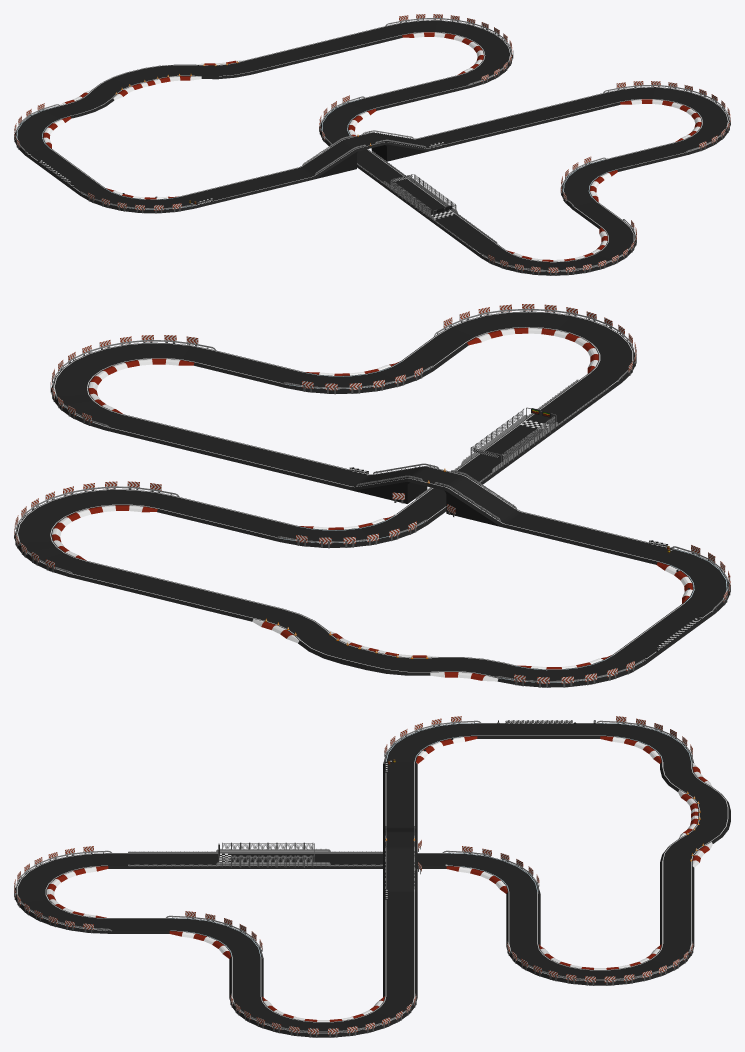
File: small-track.glb
The picture shows the model from 3 angles, top to bottom: view 1: azimuth 30°, elevation 25°; view 2: azimuth 150°, elevation 25°; view 3: azimuth 270°, elevation 25°; orthographic projection. The views are drawn at different scales.
Parts seen in each view (by area): view 1: 30Turn.004_91, 180Turn.001_101, 180Turn.003_94, straight.005_89, 180Turn.002_102, bridge.001_83, straight.007_95, straight.006_90, straight.001_75, straight.008_92, 90Turn.003_99, 90Turn.002_96 (+8 smaller); view 2: 30Turn.004_91, 180Turn.002_102, 180Turn.003_94, 180Turn.001_101, straight.005_89, bridge.001_83, straight.007_95, straight.006_90, straight.001_75, straight.008_92, 90Turn.004_100, 90Turn.001_98 (+8 smaller); view 3: 30Turn.004_91, 180Turn.002_102, straight.005_89, 180Turn.003_94, 180Turn.001_101, straight.007_95, straight.001_75, bridge.001_83, straight.006_90, 90Turn.003_99, 90Turn.001_98, 90Turn.002_96 (+8 smaller).
Boxes of the visible parts, x1,y1,x2,y2 form: 30Turn.004_91: [57, 60, 260, 118]; 180Turn.001_101: [606, 87, 730, 154]; 180Turn.003_94: [388, 20, 512, 87]; straight.005_89: [417, 92, 620, 150]; 180Turn.002_102: [481, 221, 635, 275]; bridge.001_83: [298, 132, 430, 179]; straight.007_95: [246, 25, 402, 72]; straight.006_90: [180, 167, 312, 208]; straight.001_75: [357, 149, 450, 217]; straight.008_92: [362, 75, 470, 110]; 90Turn.003_99: [561, 159, 617, 208]; 90Turn.002_96: [15, 106, 71, 155]; 30Turn.004_91: [252, 606, 515, 681]; 180Turn.002_102: [436, 311, 635, 382]; 180Turn.003_94: [14, 489, 175, 576]; 180Turn.001_101: [51, 342, 211, 430]; straight.005_89: [105, 414, 366, 489]; bridge.001_83: [350, 466, 521, 527]; straight.007_95: [68, 561, 270, 621]; straight.006_90: [503, 511, 674, 564]; straight.001_75: [396, 424, 550, 524]; straight.008_92: [157, 496, 297, 541]; 90Turn.004_100: [657, 549, 729, 612]; 90Turn.001_98: [279, 515, 426, 547]; 30Turn.004_91: [660, 762, 730, 867]; 180Turn.002_102: [15, 853, 108, 933]; straight.005_89: [383, 892, 417, 997]; 180Turn.003_94: [506, 944, 694, 985]; 180Turn.001_101: [229, 996, 417, 1037]; straight.007_95: [660, 866, 694, 945]; straight.001_75: [231, 853, 446, 868]; bridge.001_83: [383, 827, 417, 893]; straight.006_90: [383, 762, 417, 828]; 90Turn.003_99: [169, 918, 263, 958]; 90Turn.001_98: [446, 853, 540, 893]; 90Turn.002_96: [600, 723, 694, 763].
Size of the model in its own units: 10.46 by 0.3737 by 10.11.
1 material, 1 textured.
